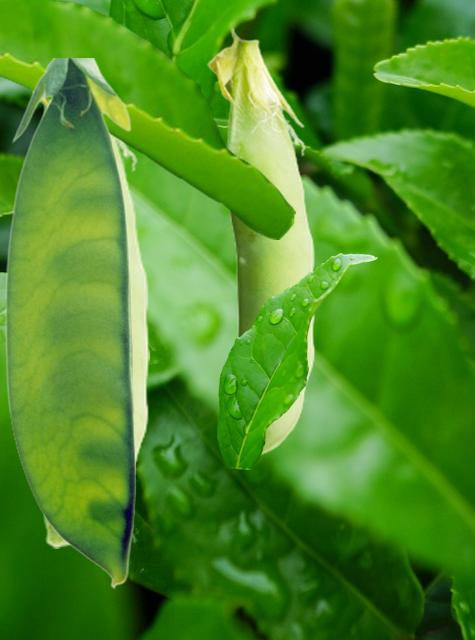pea: (4, 58, 134, 587), (27, 90, 148, 547), (207, 27, 314, 458)
